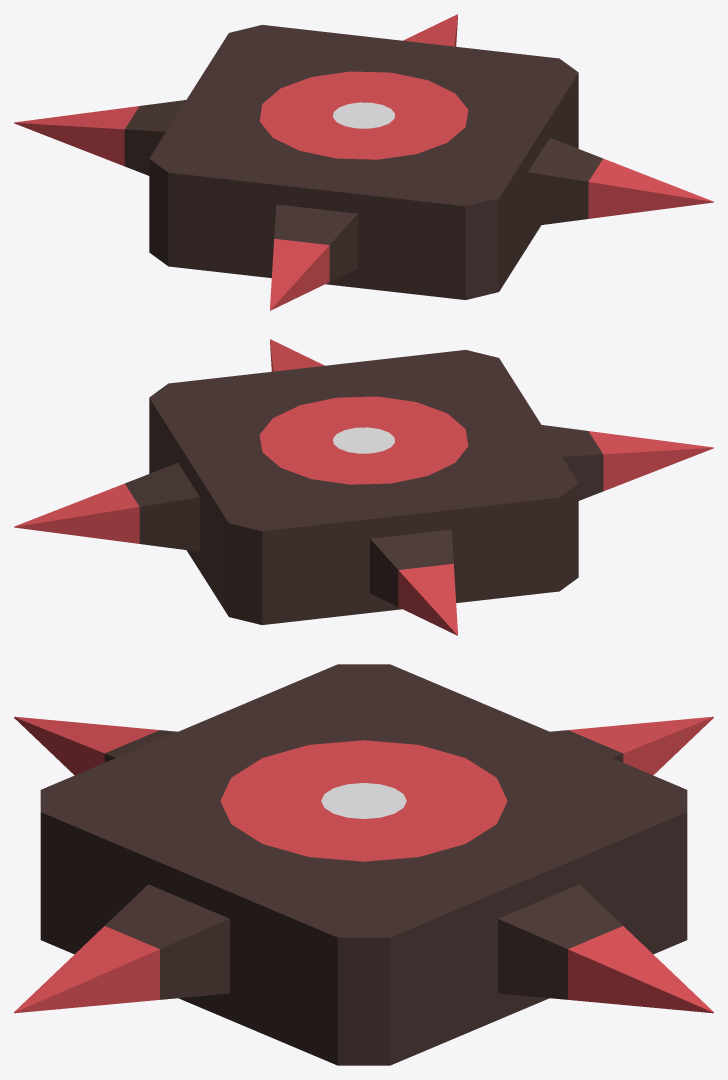
The model's file is bec.fbx.
3 views of the same model, one above another, from view 1: azimuth 30°, elevation 25°; view 2: azimuth 150°, elevation 25°; view 3: azimuth 270°, elevation 25° (orthographic). The views are drawn at different scales.
Parts seen in each view (by area): view 1: BEC; view 2: BEC; view 3: BEC.
Part boxes in pixels (left/top/right/bottom): BEC: left=14, top=14, right=713, bottom=310; BEC: left=14, top=339, right=713, bottom=635; BEC: left=14, top=664, right=713, bottom=1065.
Size of the model in its own units: 99.11 by 20 by 99.11.
